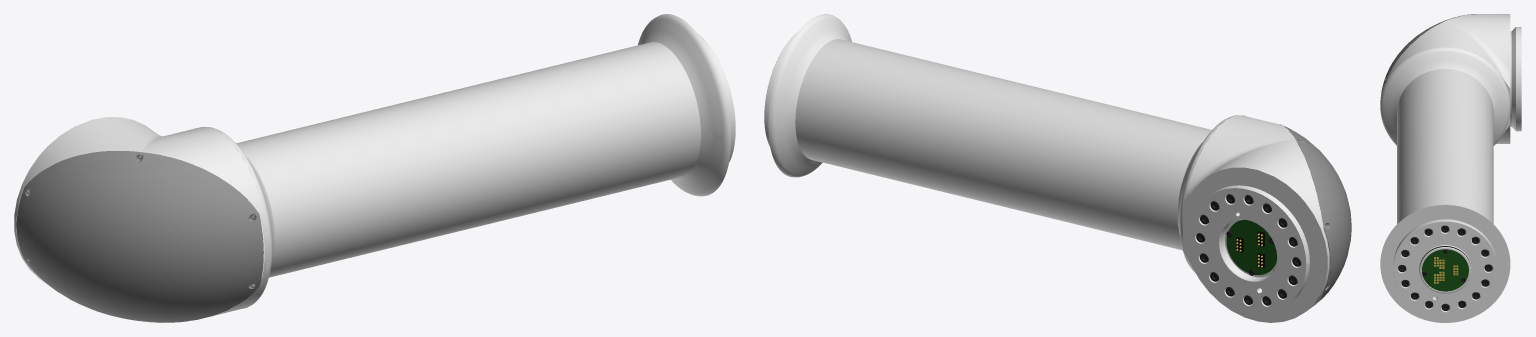
3 renders of one model, left to right at view 1: azimuth 30°, elevation 25°; view 2: azimuth 150°, elevation 25°; view 3: azimuth 270°, elevation 25°, orthographic. The views are drawn at different scales.
Visible parts, largest first — view 1: L116.001; view 2: L116.001; view 3: L116.001.
Boxes of the visible parts, left/top/right/bottom form: L116.001: left=14, top=14, right=735, bottom=322; L116.001: left=764, top=14, right=1351, bottom=322; L116.001: left=1380, top=14, right=1521, bottom=322.
Bounding box in the file's own units: 0.4627 × 0.116 × 0.126.
